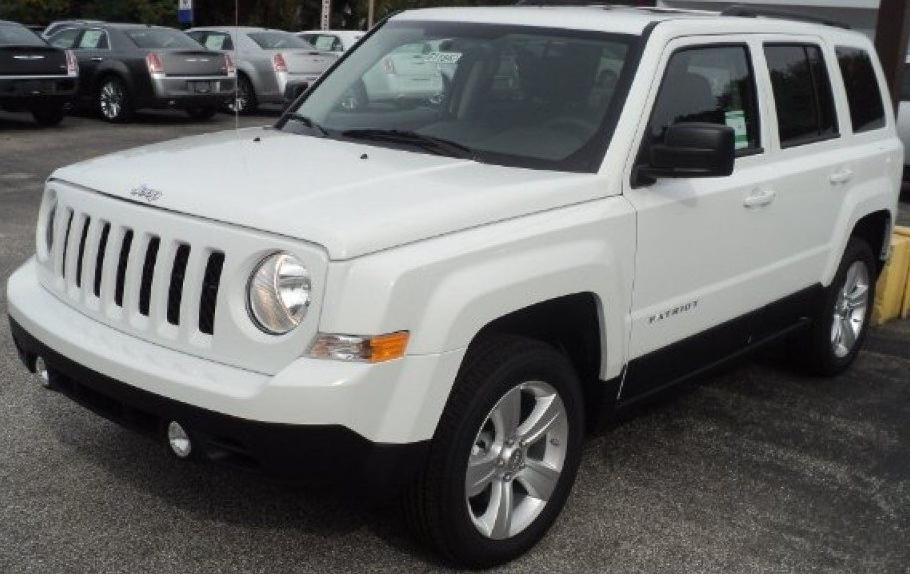front_view: (6, 162, 418, 472)
headlight: (239, 238, 412, 366)
side_glass: (621, 36, 893, 193)
